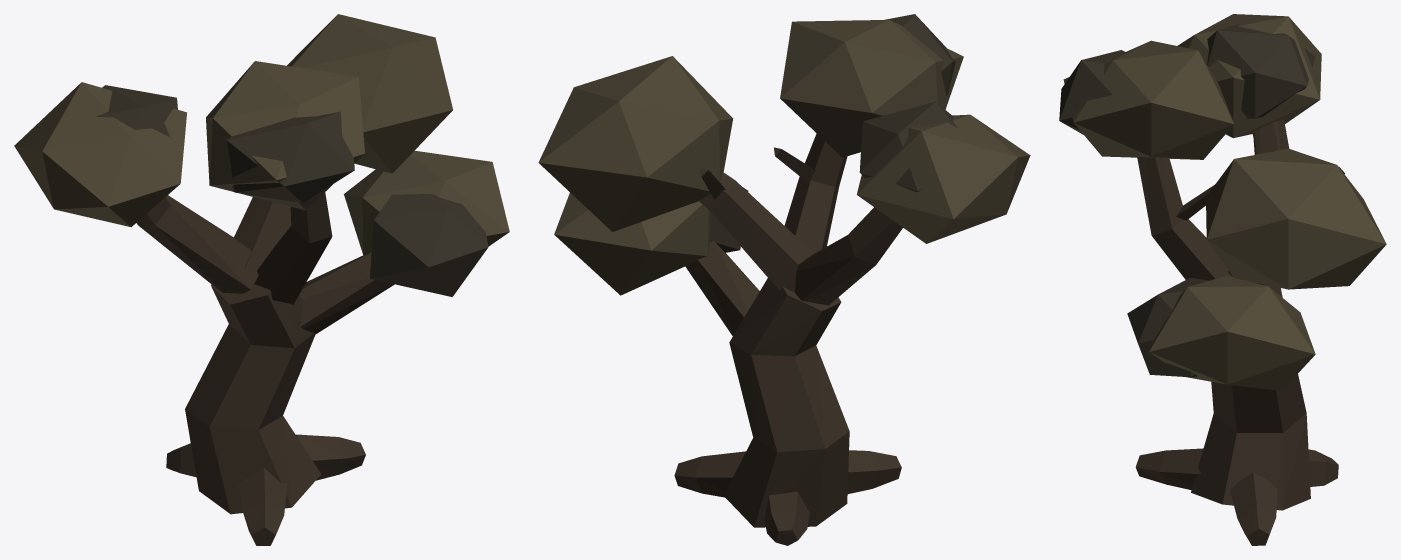
File: tree_witchwood_2.obj
3 renders of one model, left to right at view 1: azimuth 30°, elevation 25°; view 2: azimuth 150°, elevation 25°; view 3: azimuth 270°, elevation 25°, orthographic. The views are drawn at different scales.
Parts seen in each view (by area): view 1: tree_witchwood_2; view 2: tree_witchwood_2; view 3: tree_witchwood_2.
Boxes of the visible parts, <box> form: tree_witchwood_2: <box>14,14,509,545</box>; tree_witchwood_2: <box>538,14,1030,545</box>; tree_witchwood_2: <box>1059,14,1386,545</box>.
Bounding box in the file's own units: 1.05 × 1.03 × 0.7047.
